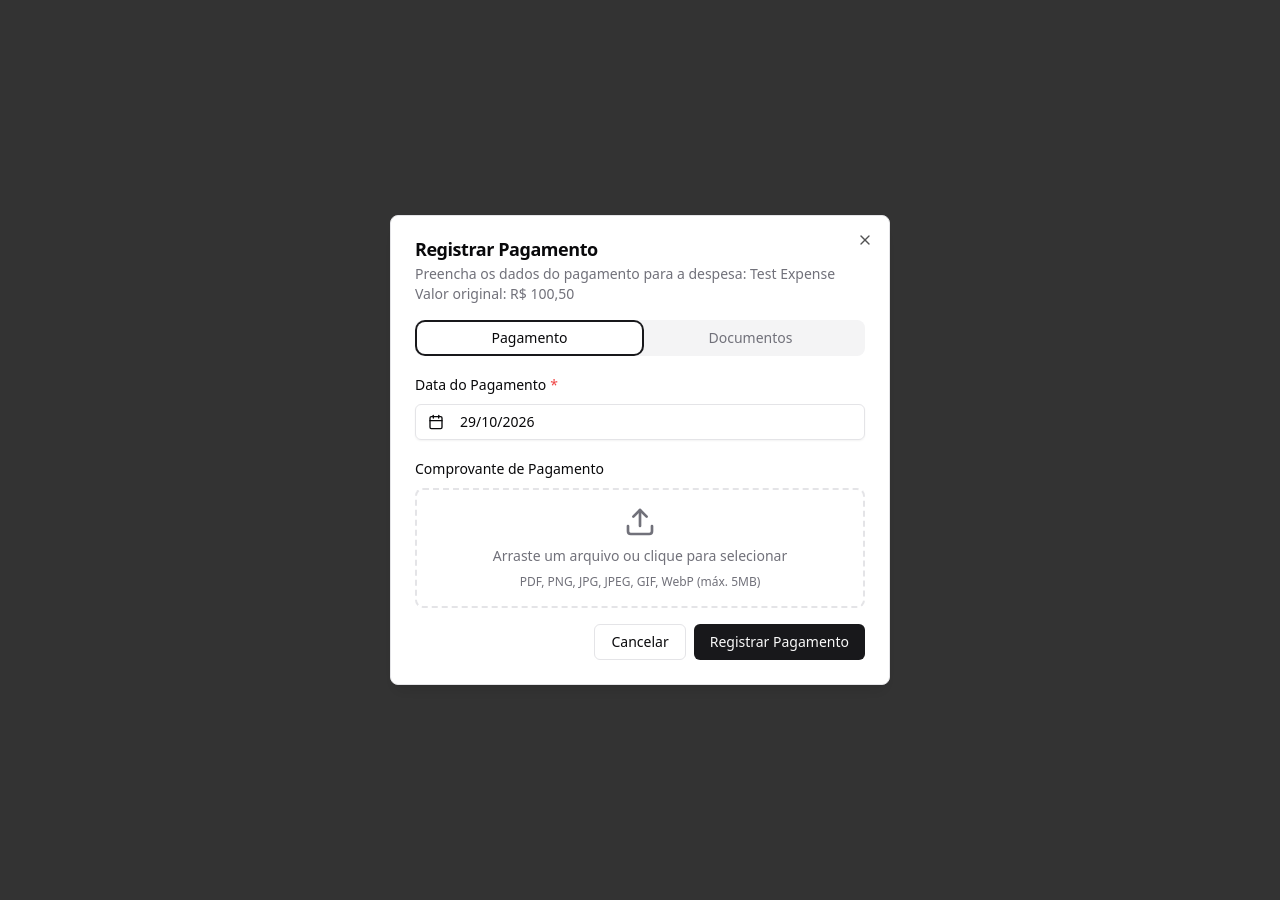
Test: PaymentModal › Documents tab › pay mode reveals expense documents when Documentos tab is clicked
Click the tab "Documentos": (750,338) [640, 324, 861, 352]
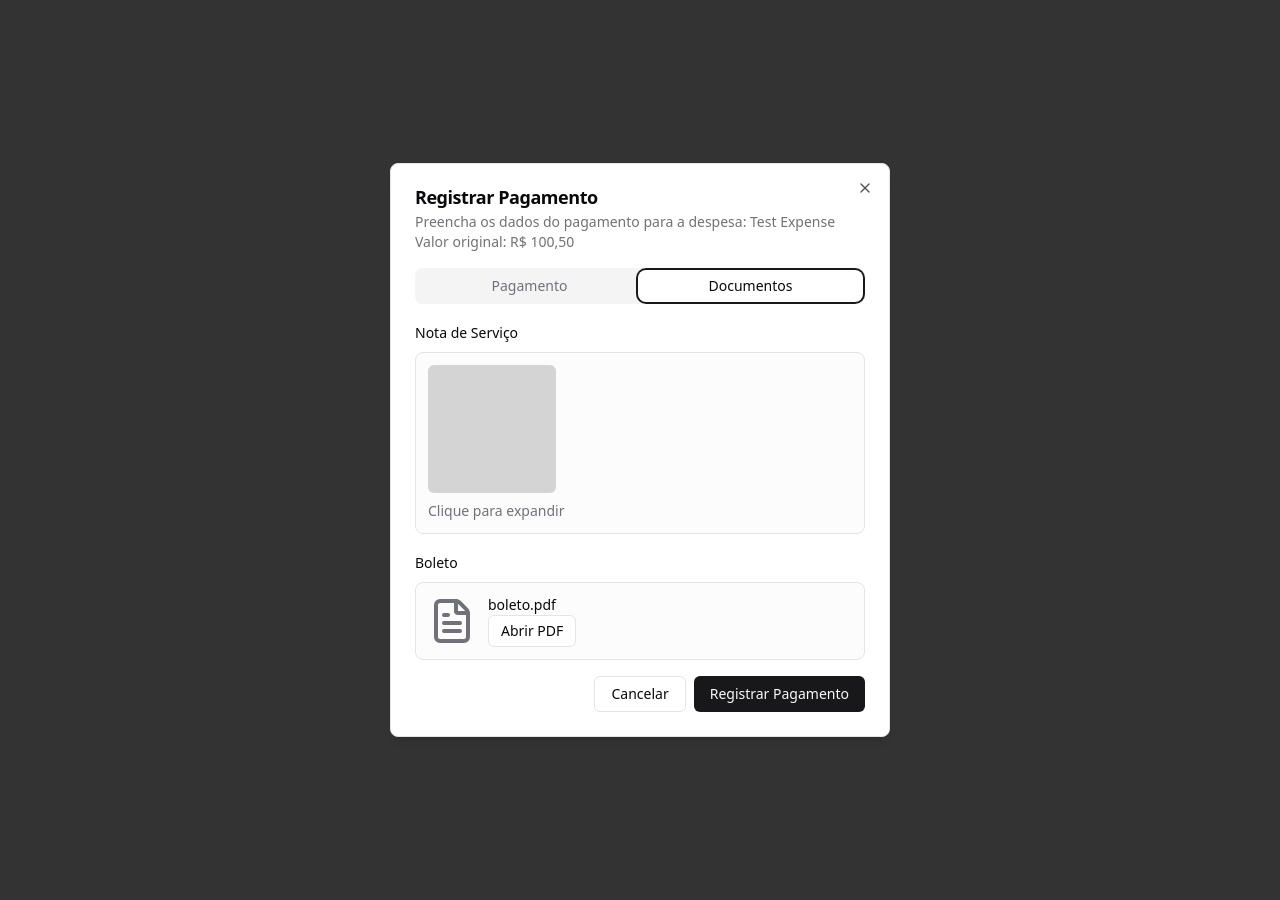
expect the element with test id "expense-documents-view" is shown: met, box [415, 320, 865, 660]
expect the text "Nota de Serviço" is shown: met, box [415, 323, 518, 342]
expect the text "Boleto" is shown: met, box [415, 553, 458, 572]
